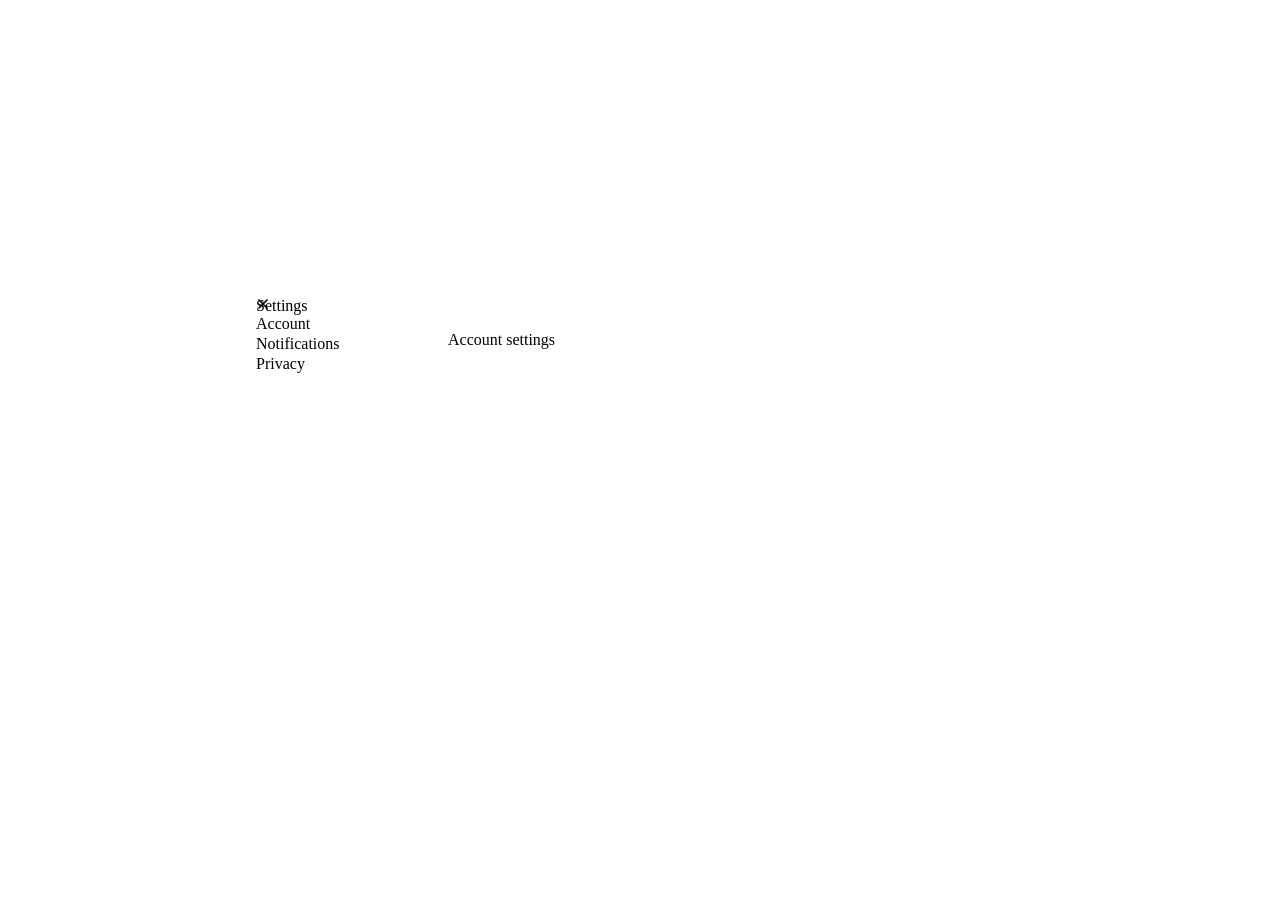
Test: TabbedModal › switches the pane when a rail item is clicked
Expected: the dialog is shown, [256,297,555,373]
Click the tab "Privacy".
click(352, 364)  # box [256,355,448,373]
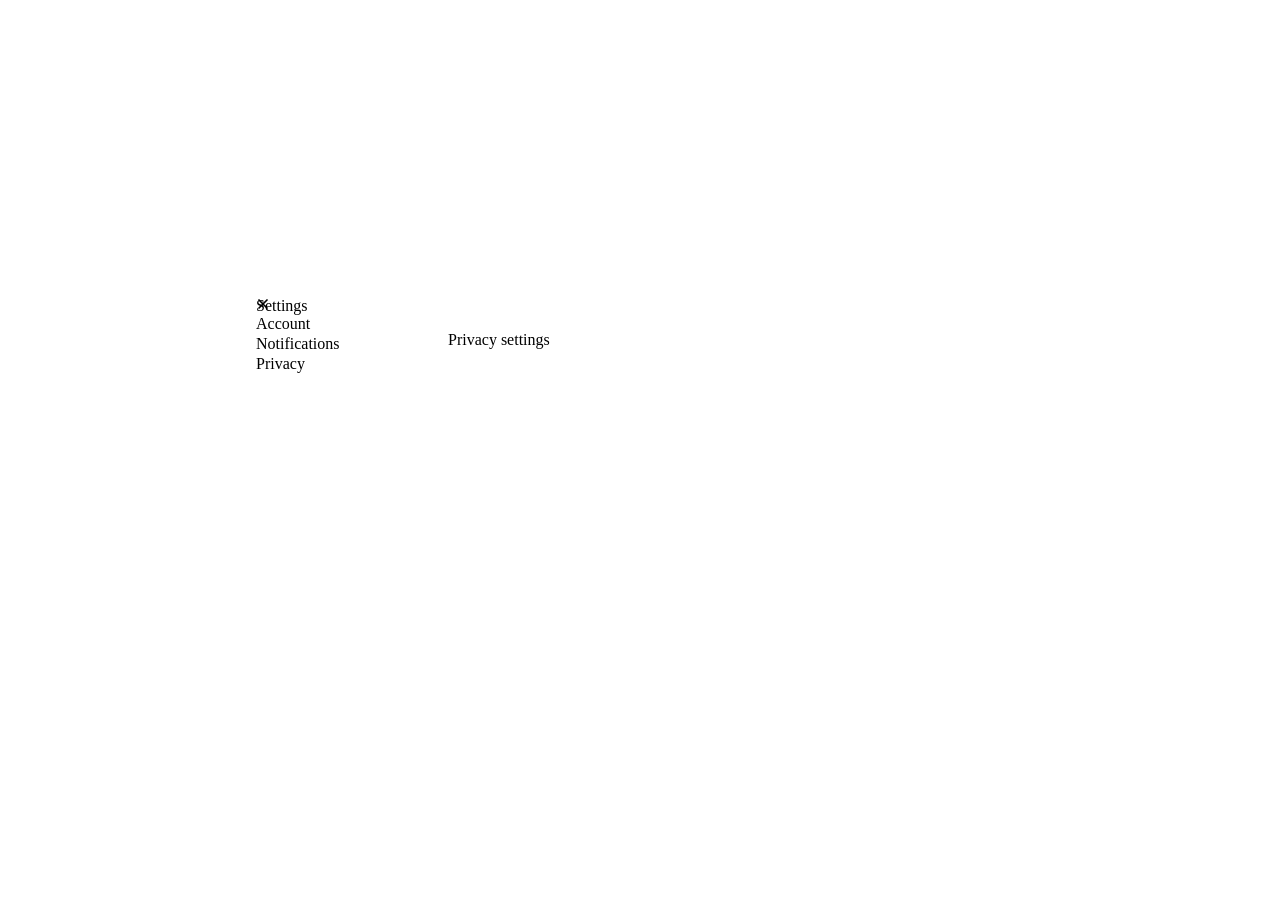
Expected: the panel reads "Privacy settings", [448,331,550,348]
